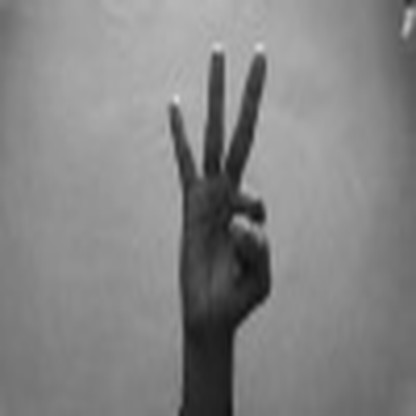f: (160, 29, 287, 333)
